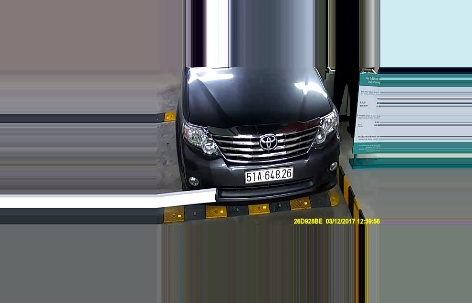plate: (240, 166, 293, 184)
